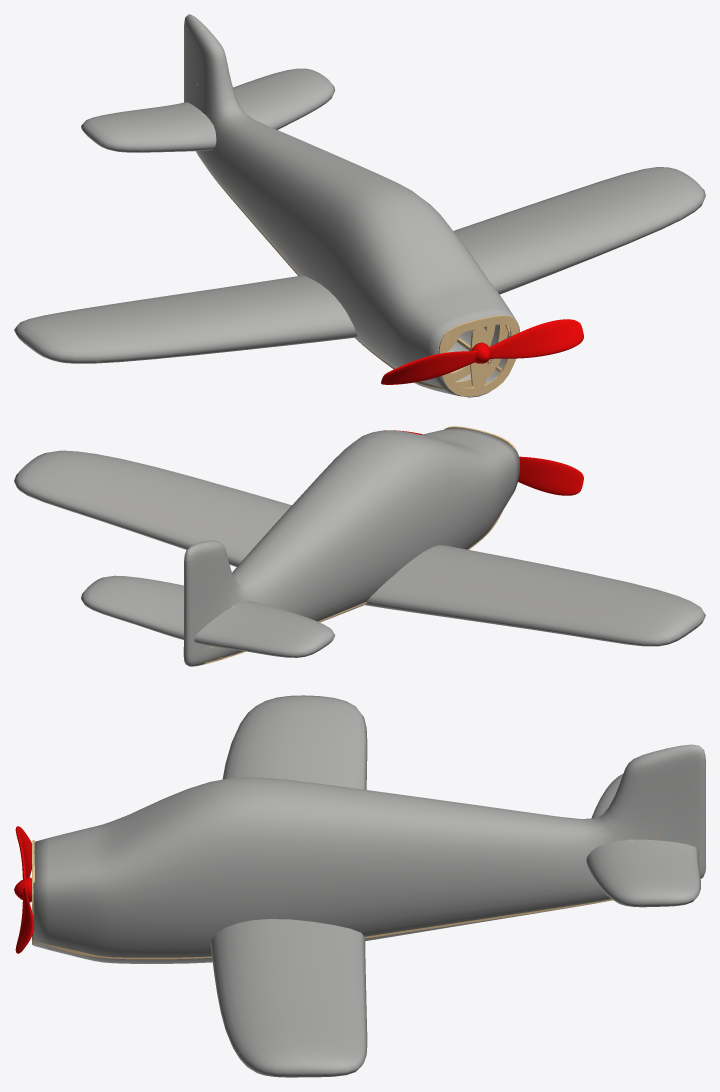
The picture shows the model from 3 angles, top to bottom: view 1: azimuth 30°, elevation 25°; view 2: azimuth 150°, elevation 25°; view 3: azimuth 270°, elevation 25°; orthographic projection. The views are drawn at different scales.
Parts seen in each view (by area): view 1: Plane, Plane.005, Plane.002, Plane.004; view 2: Plane, Plane.005; view 3: Plane, Plane.005, Plane.004.
Boxes of the visible parts, x1=… form: Plane: x1=14, y1=14, x2=705, y2=397; Plane.005: x1=381, y1=319, x2=583, y2=384; Plane.002: x1=438, y1=315, x2=519, y2=396; Plane.004: x1=97, y1=27, x2=681, y2=389; Plane: x1=14, y1=428, x2=705, y2=666; Plane.005: x1=383, y1=430, x2=583, y2=495; Plane: x1=33, y1=695, x2=705, y2=1077; Plane.005: x1=15, y1=826, x2=34, y2=953; Plane.004: x1=35, y1=725, x2=669, y2=1057.
Size of the model in its own units: 677 by 178 by 530.
